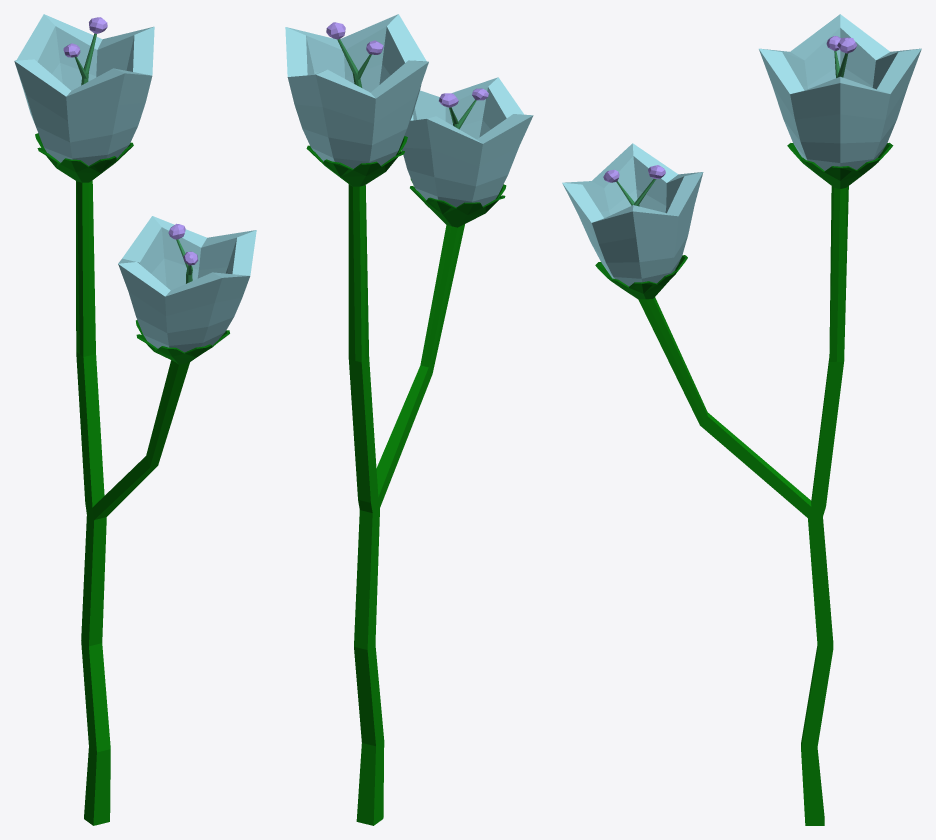
File: Big T.fbx
The picture shows the model from 3 angles, left to right: view 1: azimuth 30°, elevation 25°; view 2: azimuth 150°, elevation 25°; view 3: azimuth 270°, elevation 25°; orthographic projection. The views are drawn at different scales.
Parts seen in each view (by area): view 1: Tulpe, Stil, Kern, Knospe, Stengel; view 2: Tulpe, Stil, Kern, Knospe, Stengel; view 3: Tulpe, Stil, Kern, Knospe.
Boxes of the visible parts, box(x1,y1,x2,y2) form: Tulpe: box(14, 14, 256, 352); Stil: box(76, 180, 189, 825); Kern: box(35, 133, 229, 364); Knospe: box(63, 17, 198, 265); Stengel: box(74, 33, 192, 283); Tulpe: box(285, 14, 533, 207); Stil: box(348, 184, 464, 825); Kern: box(306, 136, 506, 227); Knospe: box(326, 22, 488, 107); Stengel: box(337, 39, 476, 129); Tulpe: box(562, 14, 921, 286); Stil: box(638, 186, 848, 825); Kern: box(595, 142, 893, 299); Knospe: box(603, 36, 857, 182).
Size of the model in its own units: 683 by 3654 by 1504.
